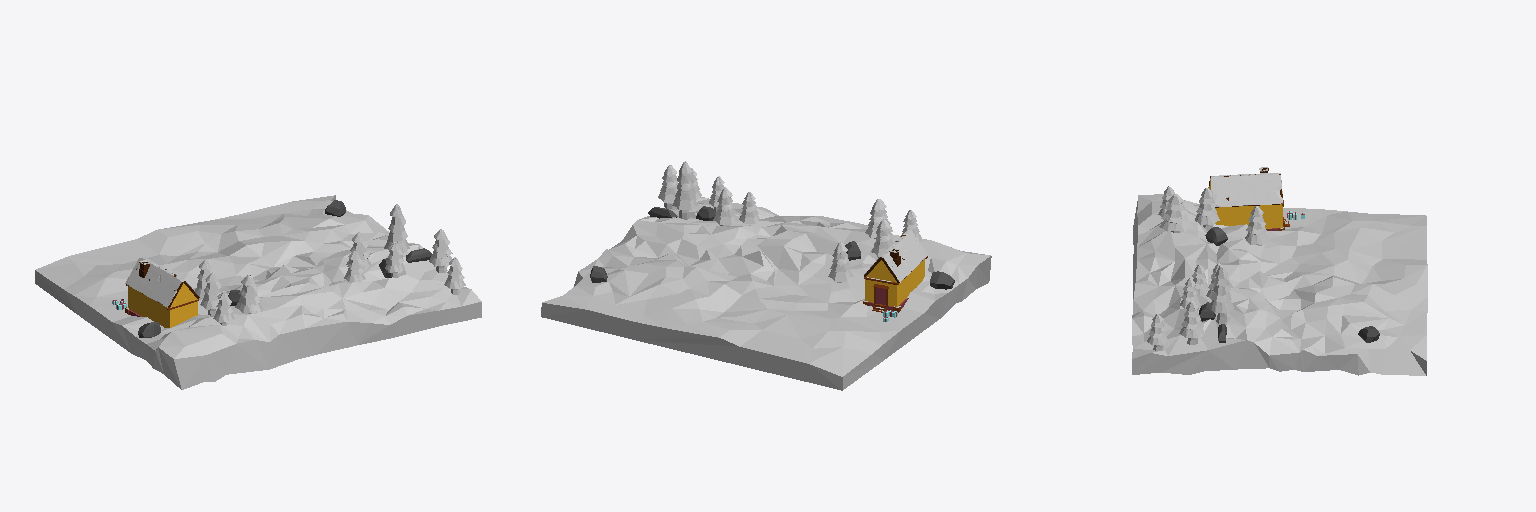
3 views of the same model, side by side, from view 1: azimuth 30°, elevation 25°; view 2: azimuth 150°, elevation 25°; view 3: azimuth 270°, elevation 25° (orthographic).
Parts seen in each view (by area): view 1: Plane, SnowBall.004, Cube.003; view 2: Plane, SnowBall.004, Cube.003; view 3: Plane, SnowBall.004, Cube.003.
Boxes of the visible parts, box(x1,y1,x2,y2) form: Plane: box(35, 195, 481, 389); SnowBall.004: box(125, 257, 194, 307); Cube.003: box(128, 286, 197, 327); Plane: box(541, 196, 991, 390); SnowBall.004: box(864, 230, 927, 282); Cube.003: box(865, 259, 924, 306); Plane: box(1132, 194, 1427, 375); SnowBall.004: box(1208, 173, 1282, 206); Cube.003: box(1215, 204, 1282, 228).
Size of the model in its own units: 67.34 by 19.05 by 56.
15 materials, 6 textured.